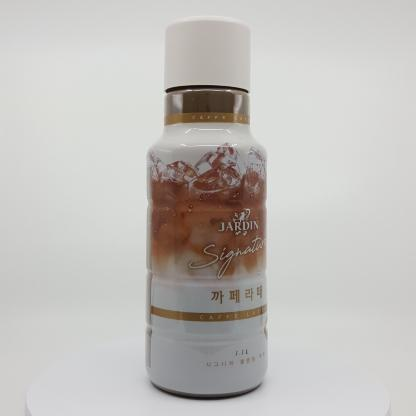----------1-1L: (145, 15, 268, 398)
